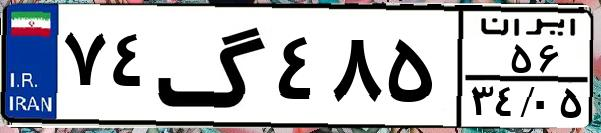0: (535, 70, 560, 125)
3: (470, 70, 495, 125)
4: (270, 28, 330, 110), (110, 28, 156, 98), (495, 70, 520, 125)
5: (385, 28, 445, 110), (560, 70, 590, 125), (508, 27, 537, 80)
6: (537, 27, 568, 80)
7: (57, 26, 110, 100)
8: (330, 28, 385, 110)
گ: (156, 12, 270, 120)
